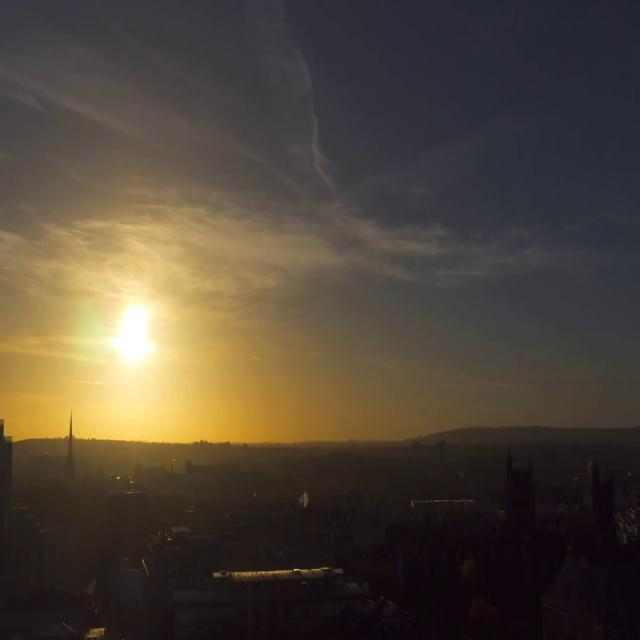Fire: (298, 488, 310, 512)
